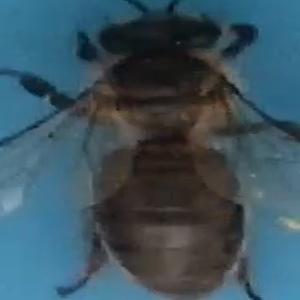bee: (18, 3, 298, 300)
